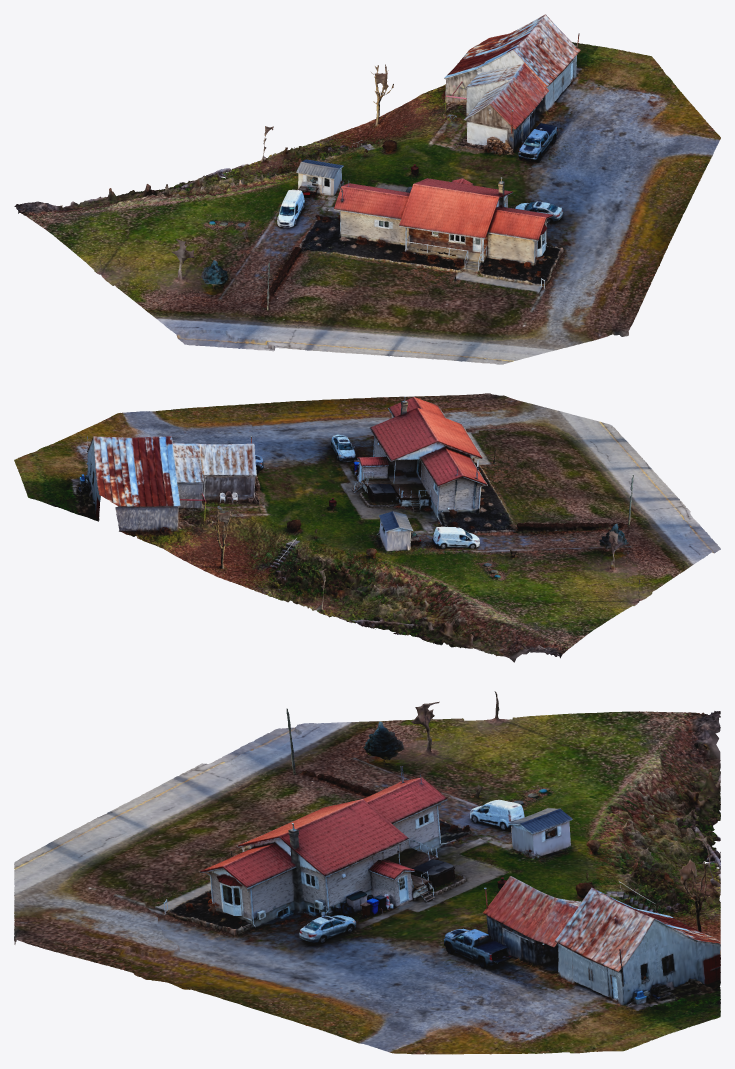
The model's file is modele_3D_mobile.glb.
3 views of the same model, one above another, from view 1: azimuth 30°, elevation 25°; view 2: azimuth 150°, elevation 25°; view 3: azimuth 270°, elevation 25° (orthographic). The views are drawn at different scales.
Visible parts, largest first — view 1: Mesh_0_Part_0; view 2: Mesh_0_Part_0; view 3: Mesh_0_Part_0.
Part boxes in pixels (bbox=[...]): Mesh_0_Part_0: bbox=[14, 14, 720, 364]; Mesh_0_Part_0: bbox=[14, 393, 720, 662]; Mesh_0_Part_0: bbox=[14, 691, 720, 1054].
Bounding box in the file's own units: 67.37 × 11.22 × 53.
Materials: 1 (1 with a texture image).
